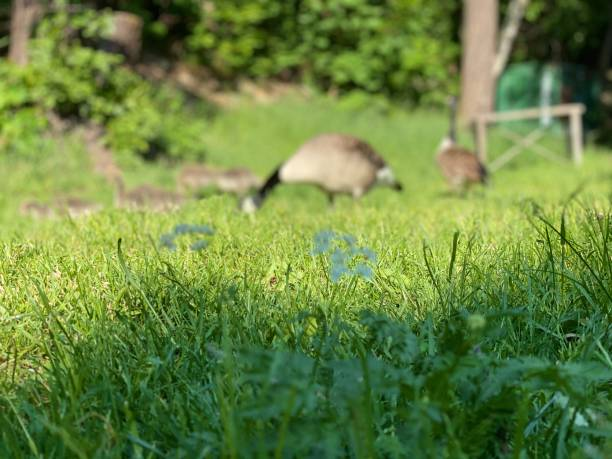goose: (235, 129, 410, 216), (431, 92, 494, 208)
